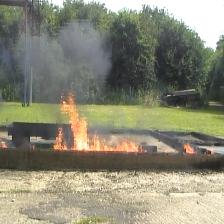fire: (52, 91, 149, 151), (182, 141, 195, 153)
